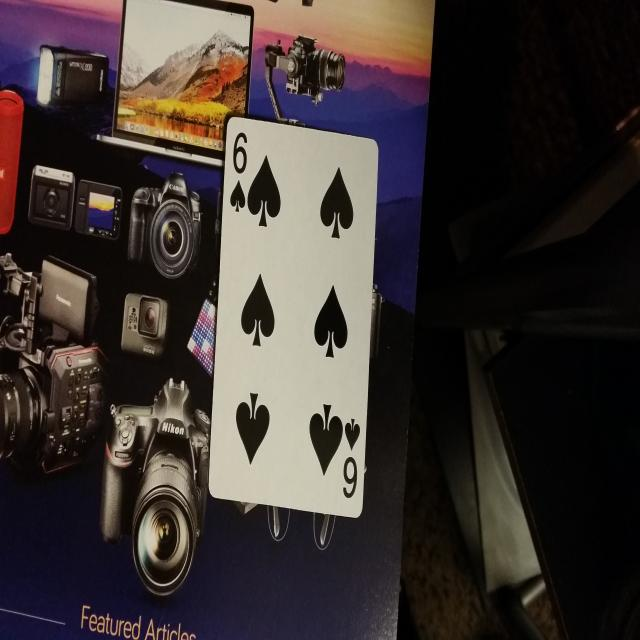6s: (228, 127, 252, 223), (339, 407, 361, 508)
